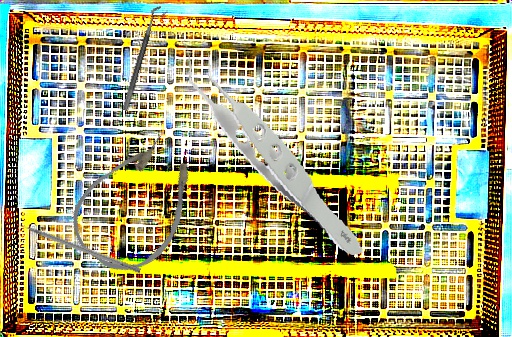Cannula: (57, 119, 218, 289)
Fixation Ring: (121, 4, 169, 114)
Hook Surgical: (7, 216, 142, 275)
Tissue Forceps: (180, 19, 367, 278)
